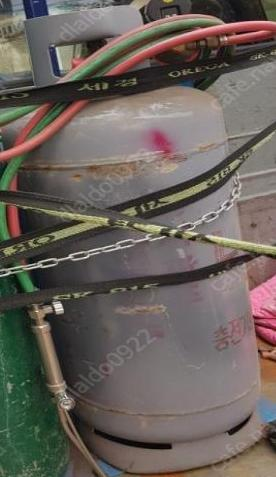cylinder: (0, 1, 276, 477)
